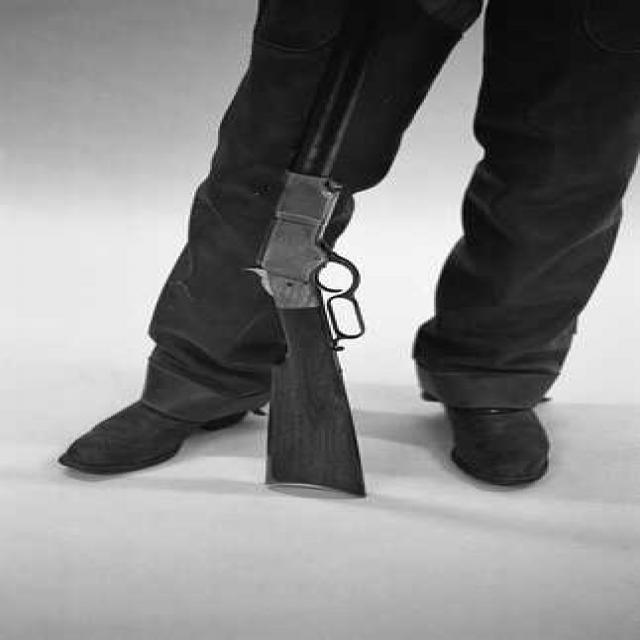weapon: (214, 0, 420, 509)
